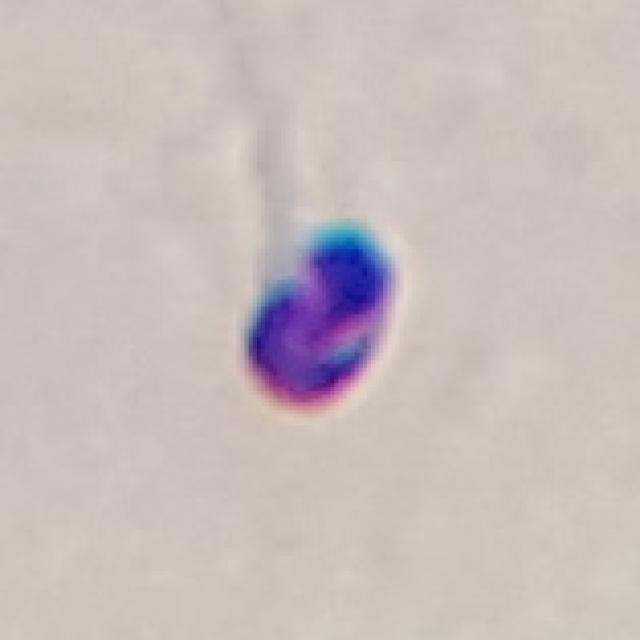non-sperm: (242, 218, 402, 409)
